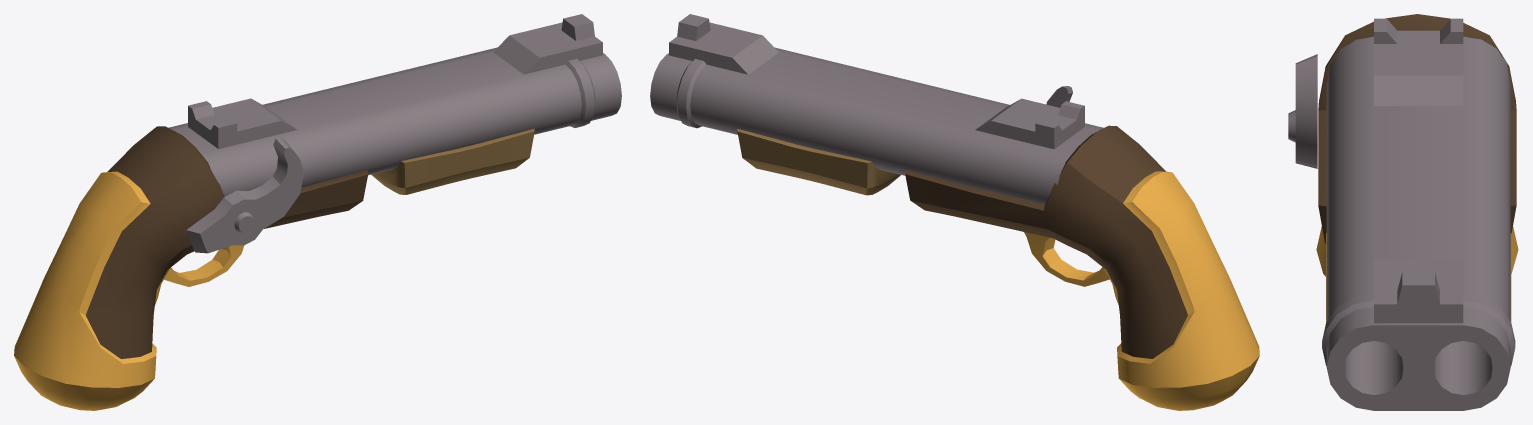
File: Weapon_DoubleShotgun.glb
3 views of the same model, side by side, from view 1: azimuth 30°, elevation 25°; view 2: azimuth 150°, elevation 25°; view 3: azimuth 270°, elevation 25° (orthographic). The views are drawn at different scales.
Parts seen in each view (by area): view 1: Weapon_DoubleShotgun; view 2: Weapon_DoubleShotgun; view 3: Weapon_DoubleShotgun.
Part boxes in pixels (x1,y1,x2,y2): Weapon_DoubleShotgun: (14,14,621,410); Weapon_DoubleShotgun: (650,14,1259,410); Weapon_DoubleShotgun: (1288,14,1518,410).
Bounding box in the file's own units: 1.58 × 0.6987 × 0.3802.
1 material, 1 textured.
